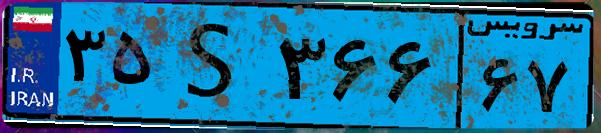3: (270, 28, 330, 110), (57, 26, 110, 100)
5: (110, 28, 158, 98)
6: (385, 28, 445, 110), (330, 28, 385, 110), (475, 38, 525, 113)
7: (525, 38, 570, 115)
S: (158, 12, 270, 120)
